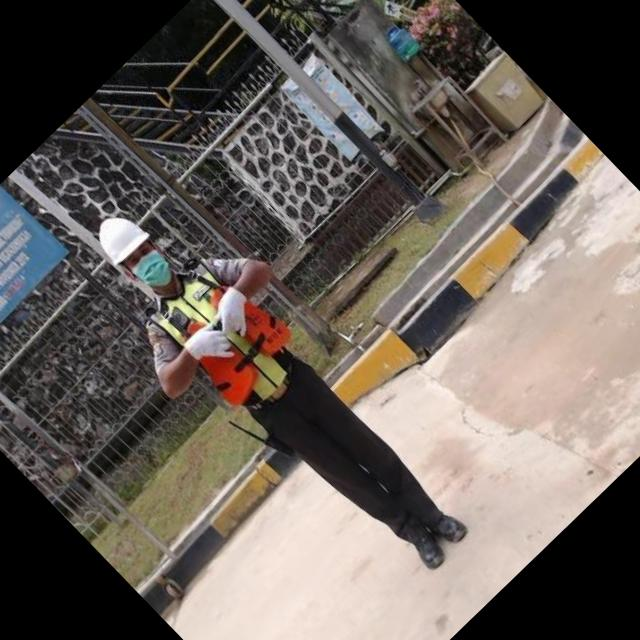hard_hat: (87, 202, 154, 270)
safety_vest: (146, 248, 314, 418)
vehicle: (29, 132, 530, 640)
work_boots: (424, 502, 475, 554), (404, 524, 454, 574)
